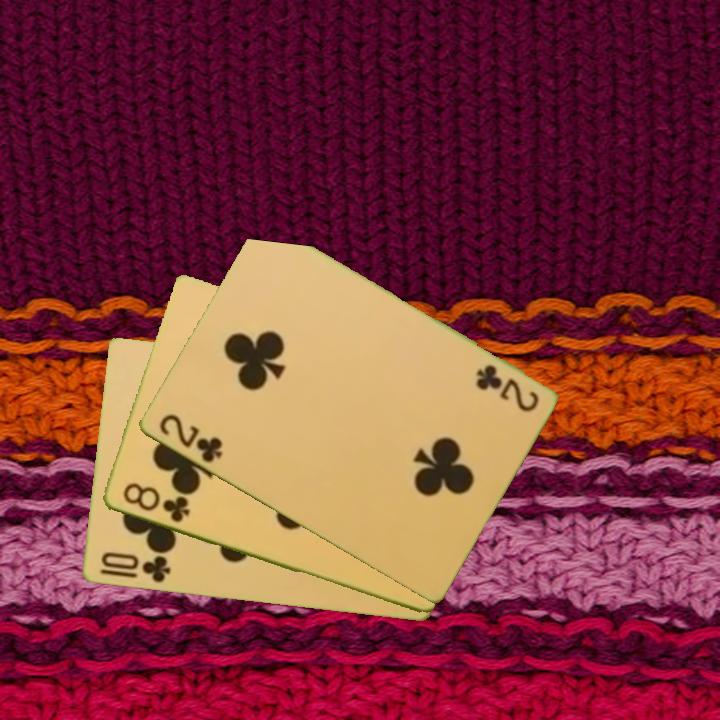10c: (97, 548, 173, 586)
2c: (155, 410, 225, 467), (472, 361, 542, 416)
8c: (118, 479, 193, 526)
